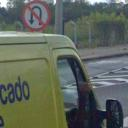NoVirarU: (22, 1, 51, 32)
